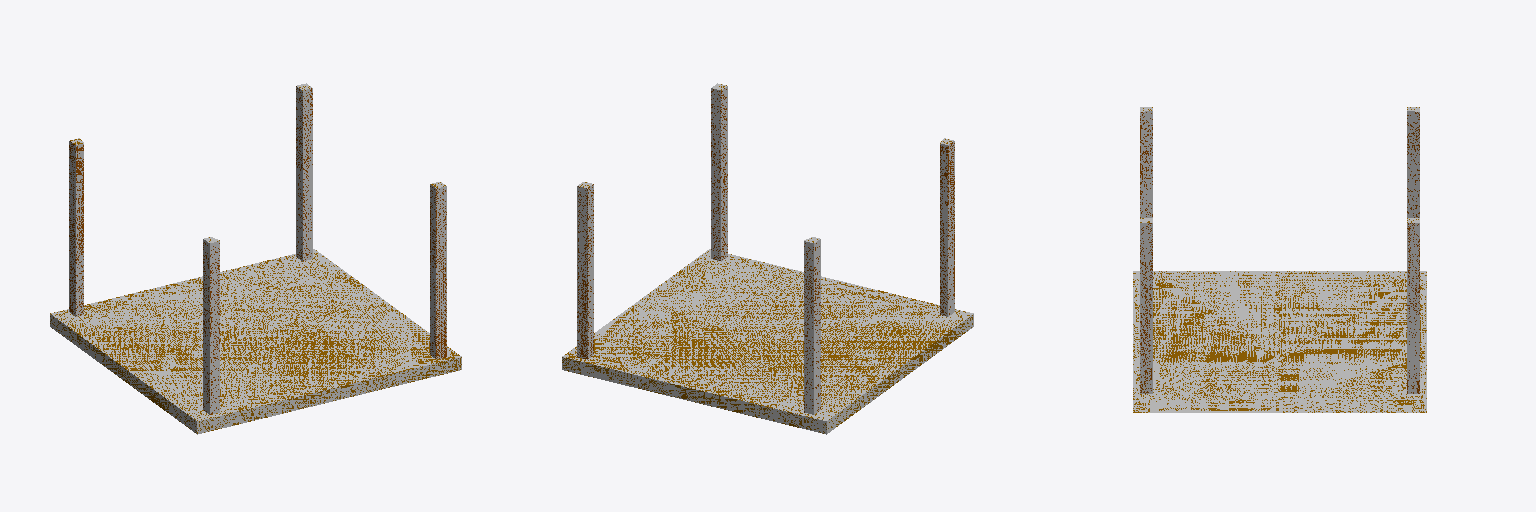
The picture shows the model from 3 angles: view 1: azimuth 30°, elevation 25°; view 2: azimuth 150°, elevation 25°; view 3: azimuth 270°, elevation 25°; orthographic projection.
Parts seen in each view (by area): view 1: Plane; view 2: Plane; view 3: Plane.
Part boxes in pixels (left/top/right/bottom): Plane: left=50, top=83, right=461, bottom=434; Plane: left=562, top=83, right=973, bottom=434; Plane: left=1133, top=107, right=1426, bottom=412.
Bounding box in the file's own units: 24.15 × 16.11 × 23.3.
2 materials, 1 textured.